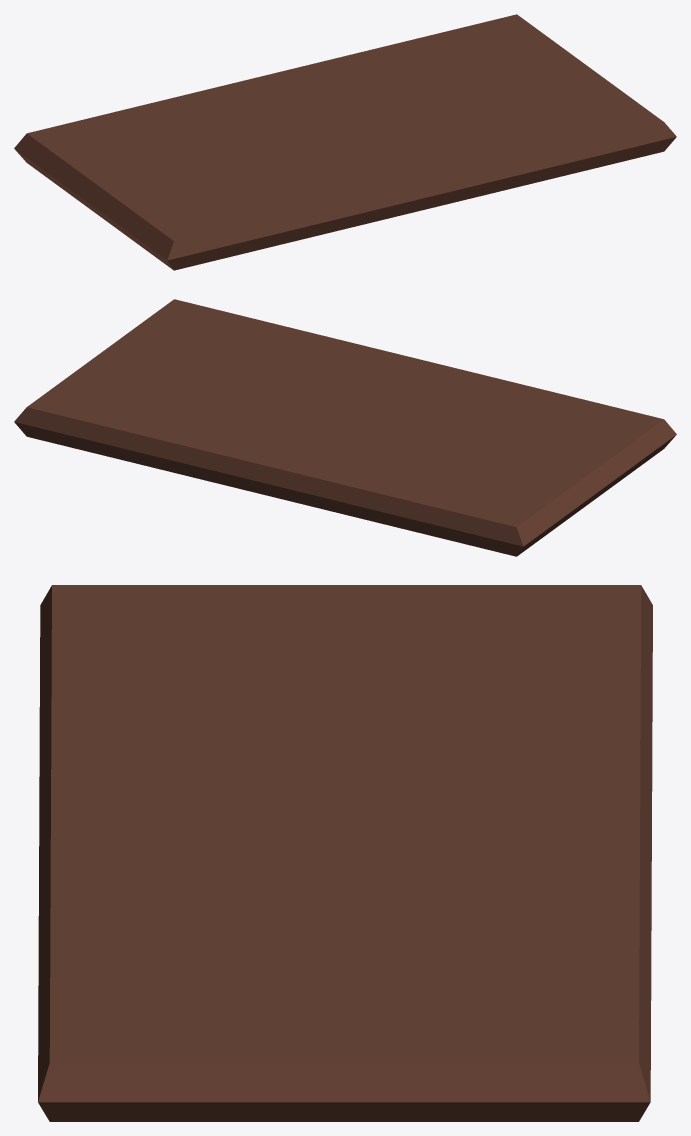
Rendered from techo.fbx.
3 views of the same model, one above another, from view 1: azimuth 30°, elevation 25°; view 2: azimuth 150°, elevation 25°; view 3: azimuth 270°, elevation 25° (orthographic). The views are drawn at different scales.
Visible parts, largest first — view 1: Cube.002; view 2: Cube.002; view 3: Cube.002.
Part boxes in pixels (<box>): Cube.002: <box>14,14,676,270</box>; Cube.002: <box>14,299,676,556</box>; Cube.002: <box>38,585,652,1121</box>.
Size of the model in its own units: 12.09 by 0.669 by 6.33.
